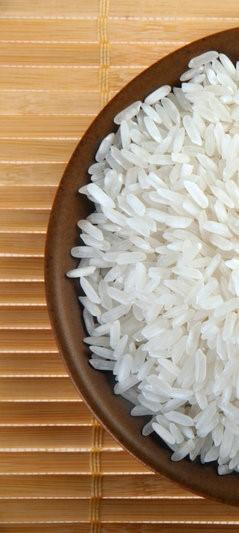WhiteRice: (66, 44, 239, 480)
